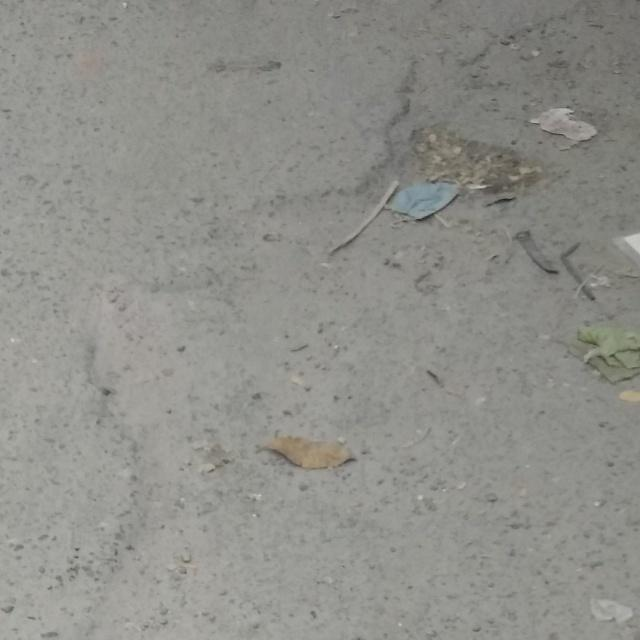Surface Erosion: (294, 30, 640, 495)
